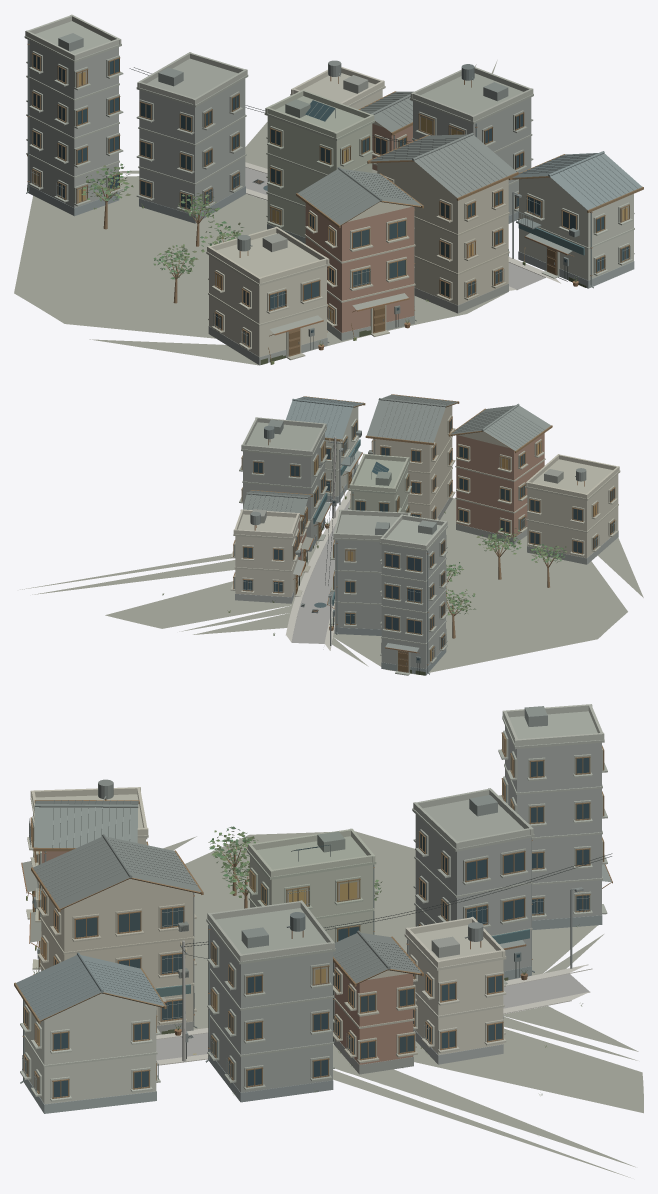
The model's file is street_3_2.glb.
3 views of the same model, one above another, from view 1: azimuth 30°, elevation 25°; view 2: azimuth 150°, elevation 25°; view 3: azimuth 270°, elevation 25° (orthographic). The views are drawn at different scales.
Visible parts, largest first — view 1: plaster.026, ground.062, trim.026, concrete.021, roof_tile.021, wood.026, brick.025, glass.026, graybrick.025, metal.026, roof_metal.026, leaf.020 (+6 smaller); view 2: ground.062, plaster.026, trim.026, concrete.021, roof_tile.021, wood.026, brick.025, glass.026, road.007, graybrick.025, metal.026, roof_metal.026 (+3 smaller); view 3: plaster.026, concrete.021, trim.026, ground.062, roof_tile.021, wood.026, glass.026, graybrick.025, metal.026, brick.025, roof_metal.026, road.007 (+5 smaller).
Part boxes in pixels (bbox=[...]): plaster.026: bbox=[25, 14, 633, 356]; ground.062: bbox=[14, 60, 507, 365]; trim.026: bbox=[24, 21, 634, 360]; concrete.021: bbox=[27, 40, 531, 215]; roof_tile.021: bbox=[298, 91, 641, 225]; wood.026: bbox=[32, 53, 643, 361]; brick.025: bbox=[305, 123, 414, 332]; glass.026: bbox=[33, 54, 628, 346]; graybrick.025: bbox=[27, 184, 634, 365]; metal.026: bbox=[26, 40, 630, 346]; roof_metal.026: bbox=[58, 33, 572, 333]; leaf.020: bbox=[81, 163, 243, 279]; ground.062: bbox=[20, 498, 643, 674]; plaster.026: bbox=[233, 405, 619, 597]; trim.026: bbox=[230, 415, 620, 675]; concrete.021: bbox=[243, 433, 445, 668]; roof_tile.021: bbox=[243, 394, 550, 514]; wood.026: bbox=[233, 394, 615, 672]; brick.025: bbox=[298, 433, 544, 560]; glass.026: bbox=[234, 417, 614, 660]; road.007: bbox=[291, 499, 350, 643]; graybrick.025: bbox=[235, 464, 618, 675]; metal.026: bbox=[243, 426, 616, 674]; roof_metal.026: bbox=[252, 419, 563, 651]; plaster.026: bbox=[24, 704, 604, 1104]; concrete.021: bbox=[182, 726, 601, 1092]; trim.026: bbox=[20, 711, 607, 1101]; ground.062: bbox=[40, 831, 643, 1177]; roof_tile.021: bbox=[16, 800, 421, 1020]; wood.026: bbox=[14, 732, 604, 1098]; glass.026: bbox=[25, 754, 589, 1097]; graybrick.025: bbox=[24, 915, 602, 1113]; metal.026: bbox=[20, 779, 590, 1093]; brick.025: bbox=[42, 851, 413, 1064]; roof_metal.026: bbox=[22, 706, 611, 1001]; road.007: bbox=[156, 973, 589, 1060].
Bounding box in the file's own units: 51.02 × 13.42 × 38.92.
